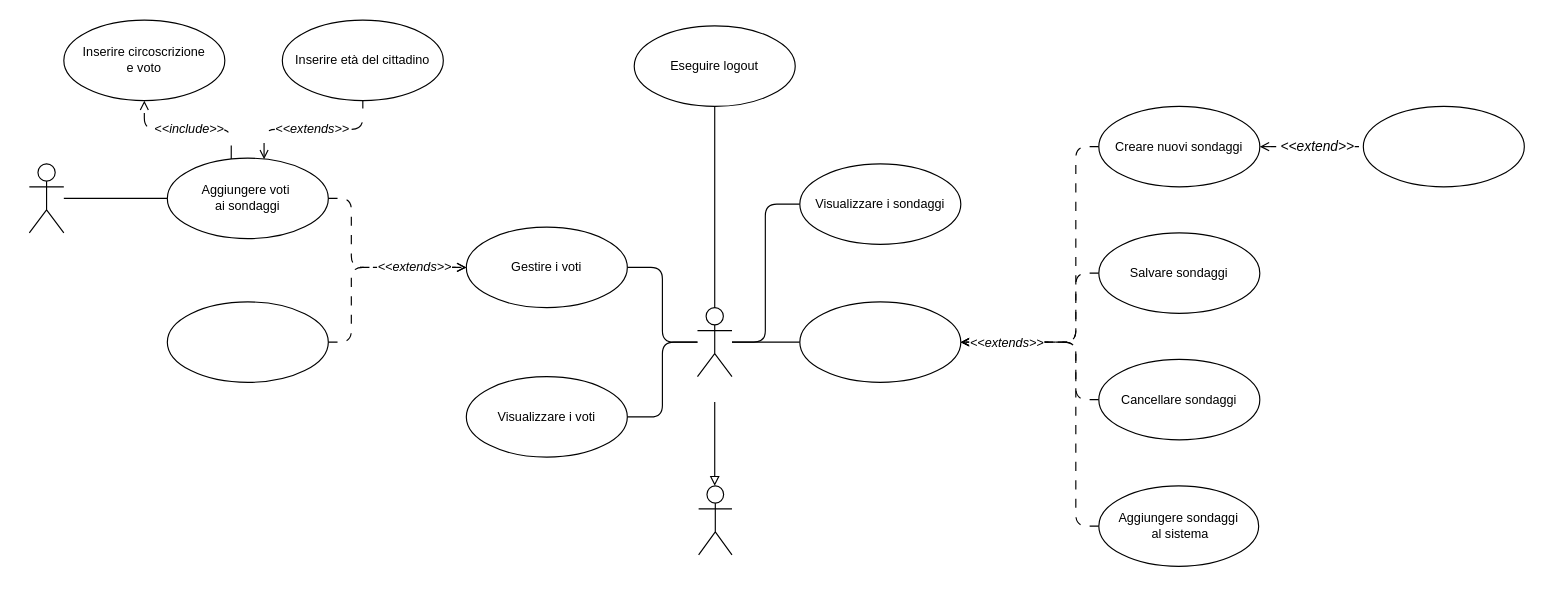
This 1544x599 diagram has some shape labels left out. Here are the shapes that lost their labels. From the top down, the centre of each, then its label:
At pixel 1443 146: "Caricare sondaggi da file".
At pixel 46 198: "Cittadino".
At pixel 247 341: "Rimuovere voti dai sondaggi".
At pixel 714 341: "Sondaggista".
At pixel 880 341: "Gestire i sondaggi".
At pixel 714 520: "Utente Non Loggato".
